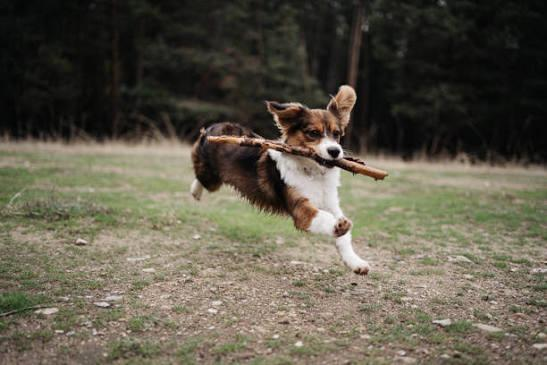puppy-dog: (188, 81, 372, 276)
